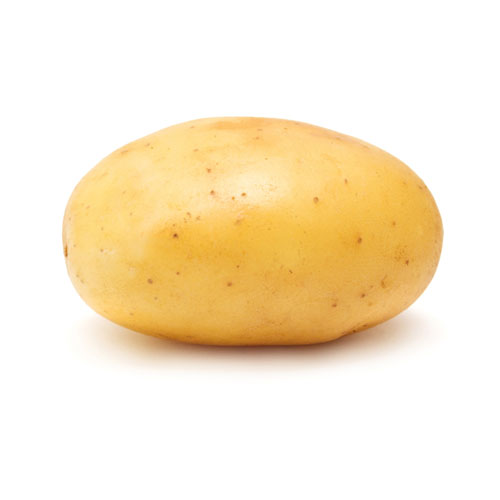potato: (50, 112, 454, 393)
